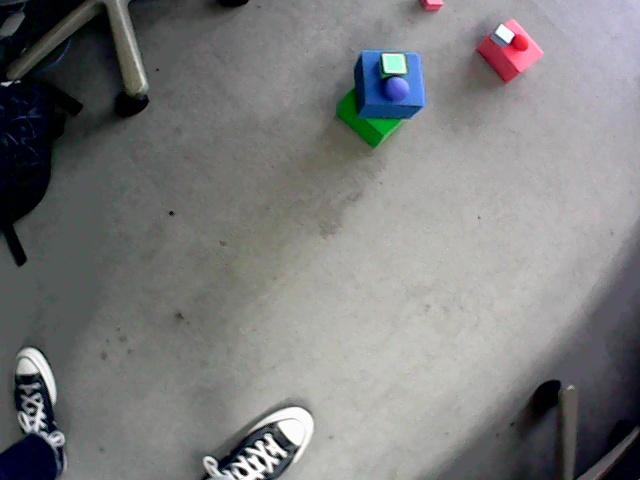blue_block: (354, 50, 426, 118), (491, 24, 514, 47)
red_block: (477, 19, 542, 82), (420, 0, 443, 10)
